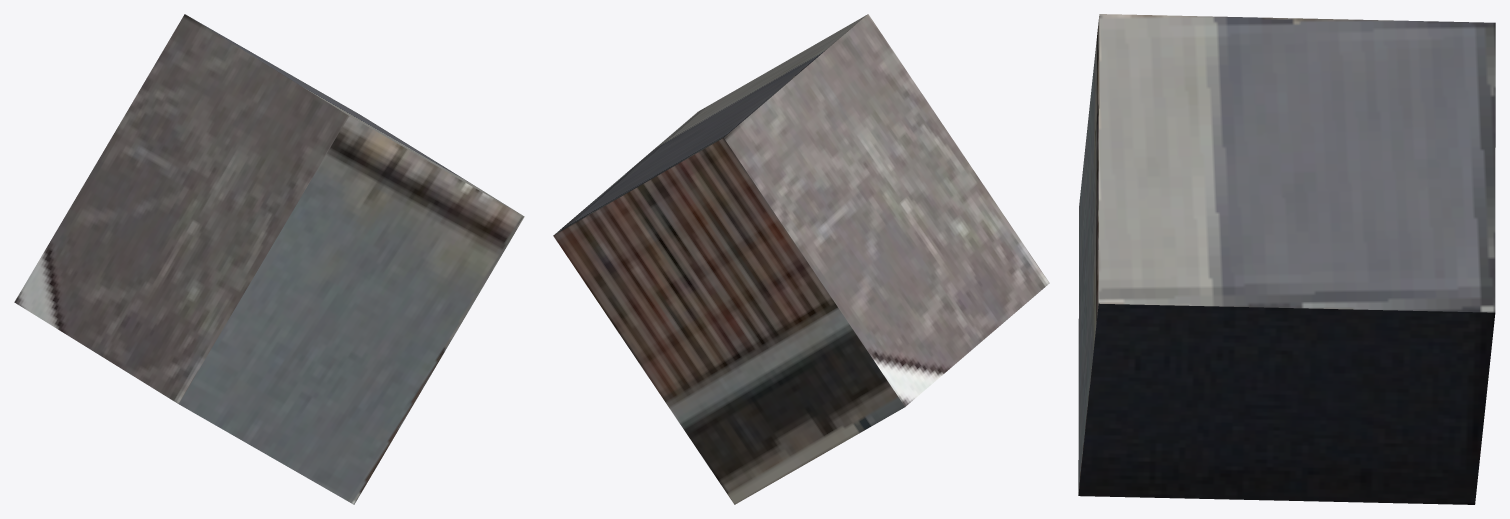
3 renders of one model, left to right at view 1: azimuth 30°, elevation 25°; view 2: azimuth 150°, elevation 25°; view 3: azimuth 270°, elevation 25°, orthographic. The views are drawn at different scales.
Visible parts, largest first — view 1: BAG_0599100100019947; view 2: BAG_0599100100019947; view 3: BAG_0599100100019947.
Boxes of the visible parts, x1,y1,x2,y2 form: BAG_0599100100019947: (14,14,524,504); BAG_0599100100019947: (553,14,1049,504); BAG_0599100100019947: (1078,14,1495,504).
Bounding box in the file's own units: 3.33 × 3.46 × 2.63.
1 material, 1 textured.
